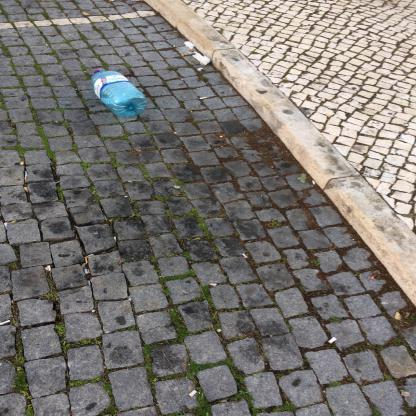plastik: (91, 70, 149, 120)
